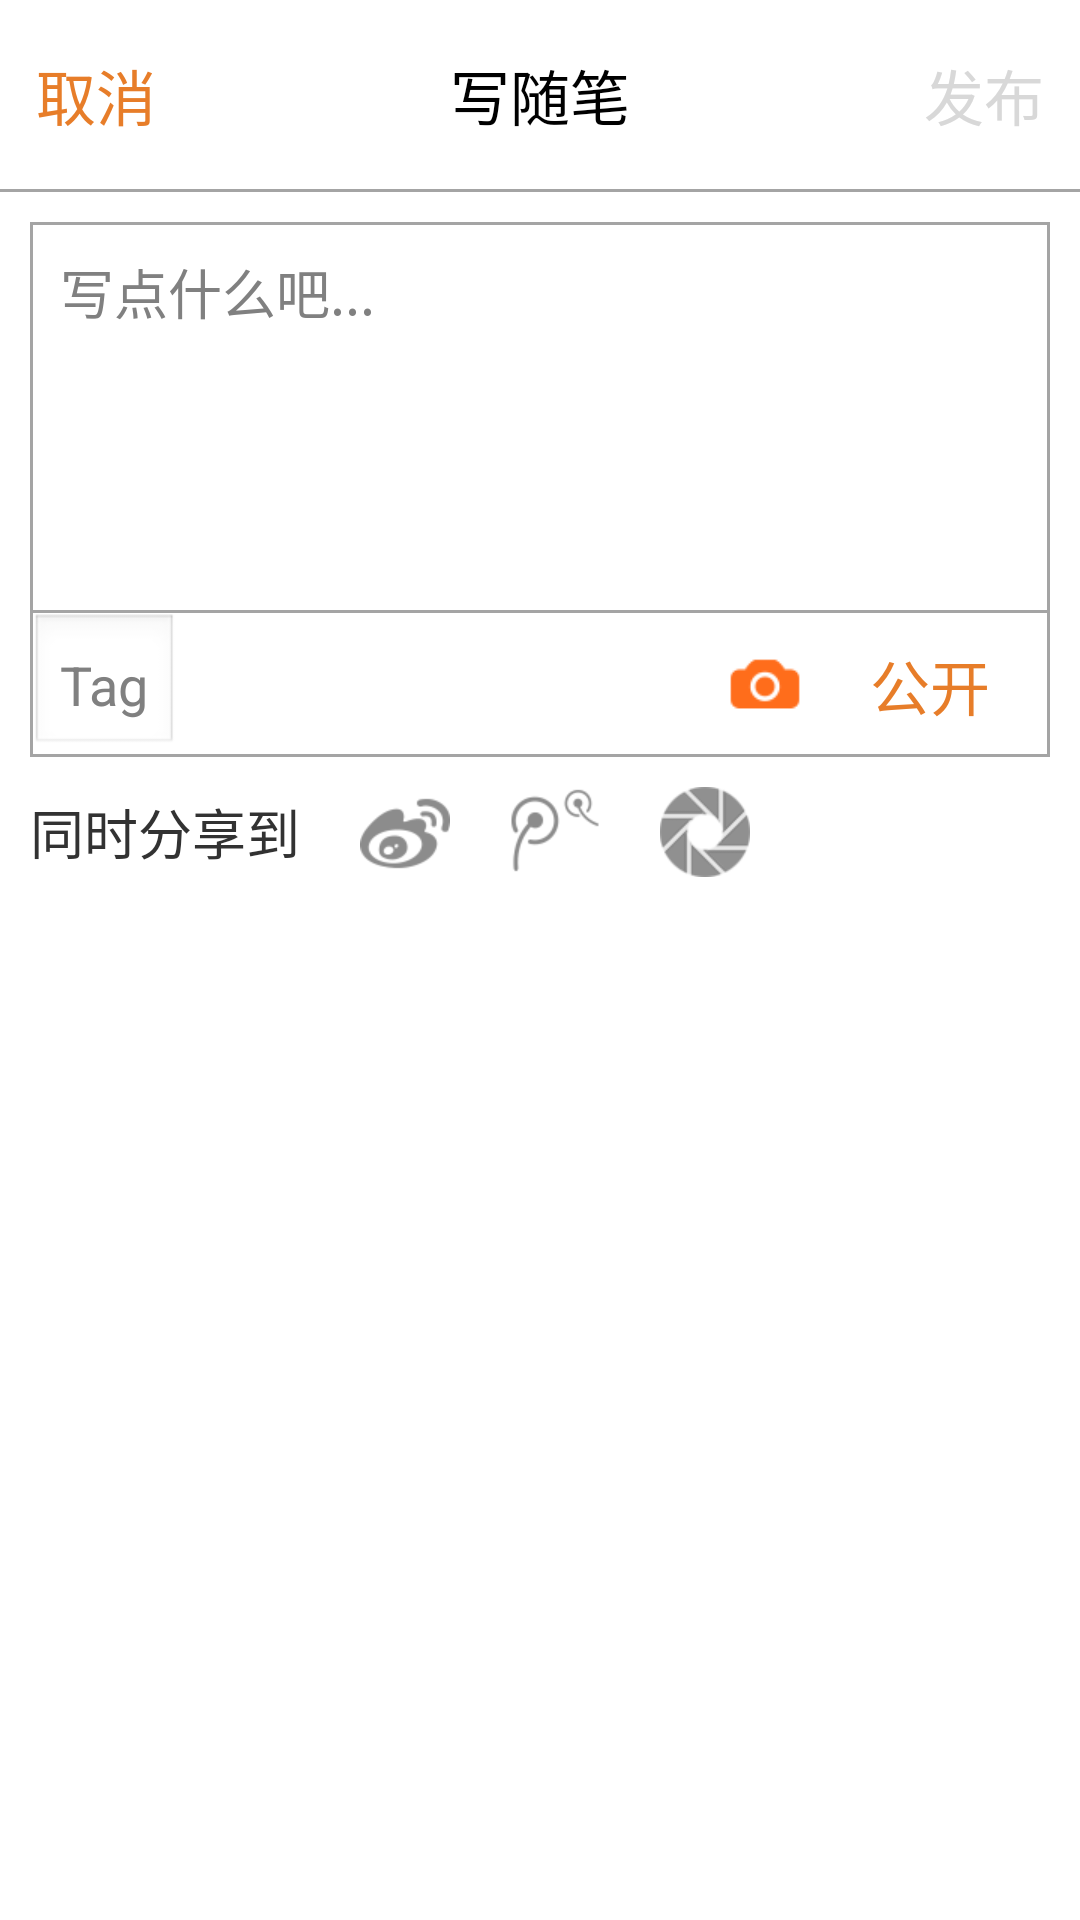

Named icons in this screenshot (1080px x 1920px) and their centers, [x,y]:
camera: [765,684]
